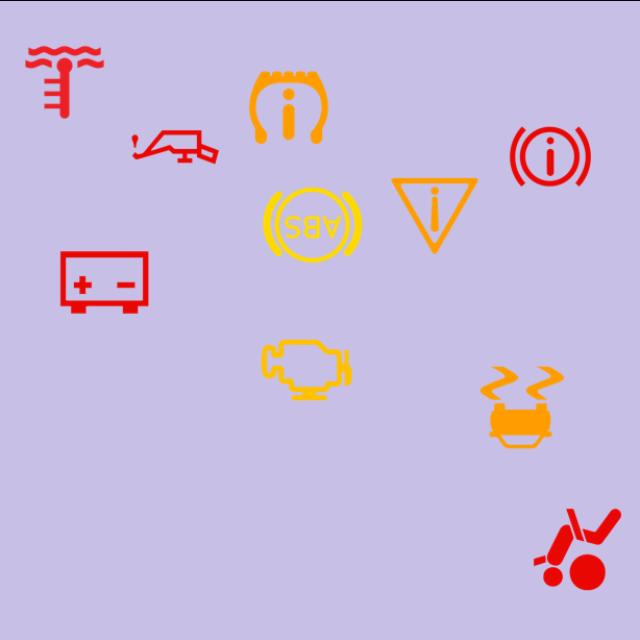Anti Lock Braking System: (258, 170, 366, 278)
Braking System Issue: (496, 102, 604, 210)
Charging System Issue: (50, 228, 158, 336)
Check Engine: (252, 315, 360, 423)
Electronic Stability Problem -ESP-: (468, 352, 576, 460)
Engine Overheating Warning Light: (10, 28, 119, 136)
Low Engine Oil Warning Light: (121, 92, 229, 200)
Low Tire Pressure Warning Light: (235, 52, 342, 160)
Master warning light: (381, 160, 488, 268)
SRS-Airbag: (524, 494, 632, 603)
